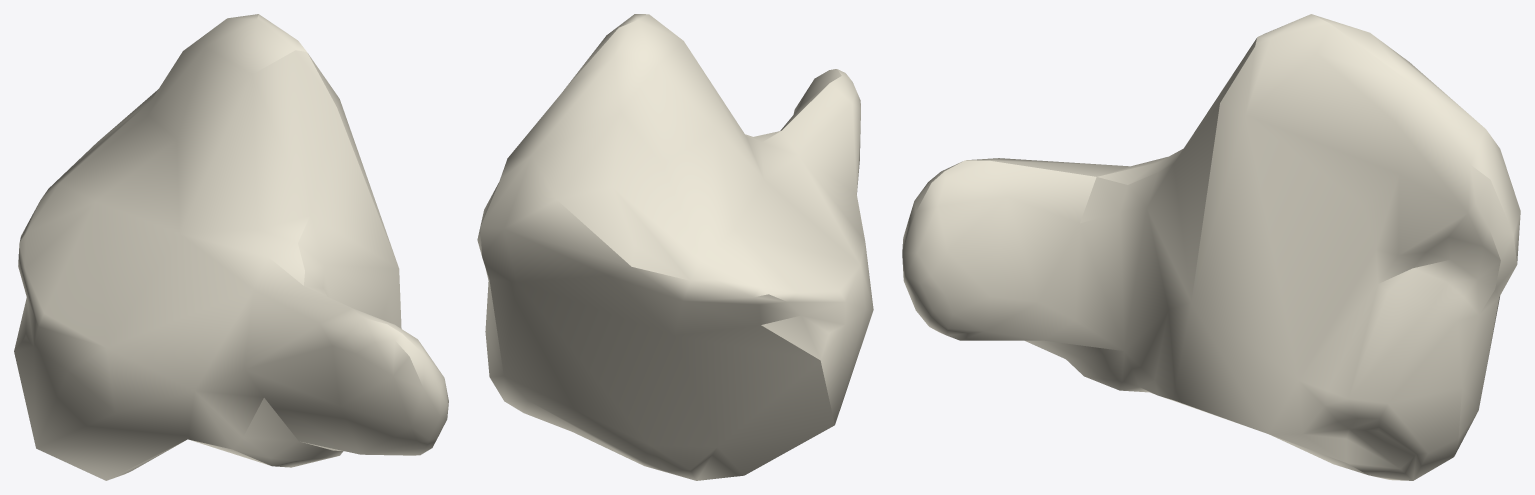
File: fma24449_fj6372.glb
3 renders of one model, left to right at view 1: azimuth 30°, elevation 25°; view 2: azimuth 150°, elevation 25°; view 3: azimuth 270°, elevation 25°, orthographic. The views are drawn at different scales.
Parts seen in each view (by area): view 1: FMA24449_FJ6372; view 2: FMA24449_FJ6372; view 3: FMA24449_FJ6372.
Part boxes in pixels (<box>): FMA24449_FJ6372: <box>14,14,448,480</box>; FMA24449_FJ6372: <box>477,14,873,480</box>; FMA24449_FJ6372: <box>902,14,1520,480</box>.
Bounding box in the file's own units: 0.0153 × 0.0192 × 0.0227.
